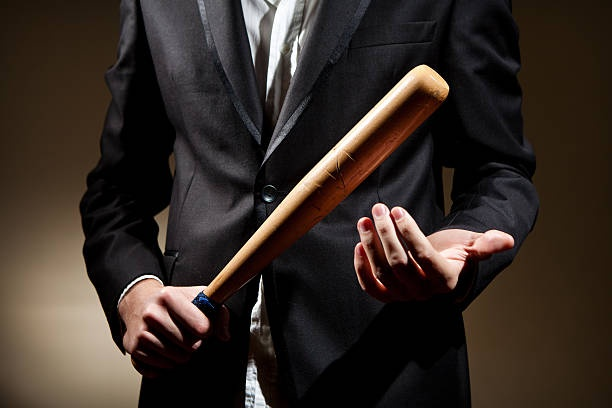bita: (175, 68, 444, 329)
